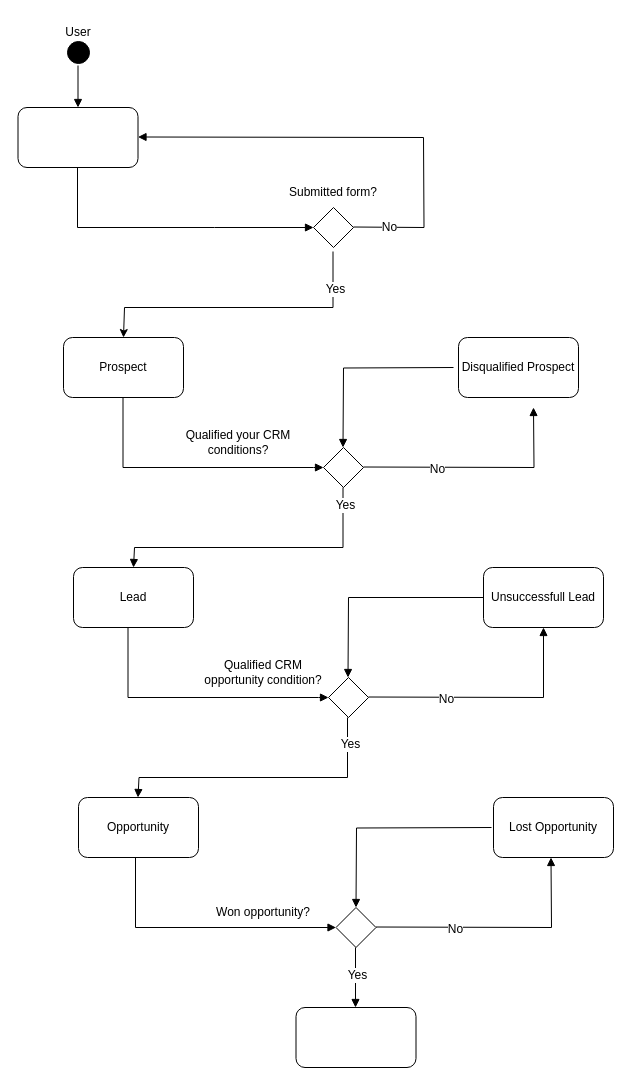
This 631x1085 diagram has some shape labels left out. The shapes that lost their labels are listed below. From the top down, each one's box as (x1, y1, x2, y2) in pixels, then its label:
(17, 106, 138, 168): Visitor
(295, 1006, 416, 1068): Closed won
